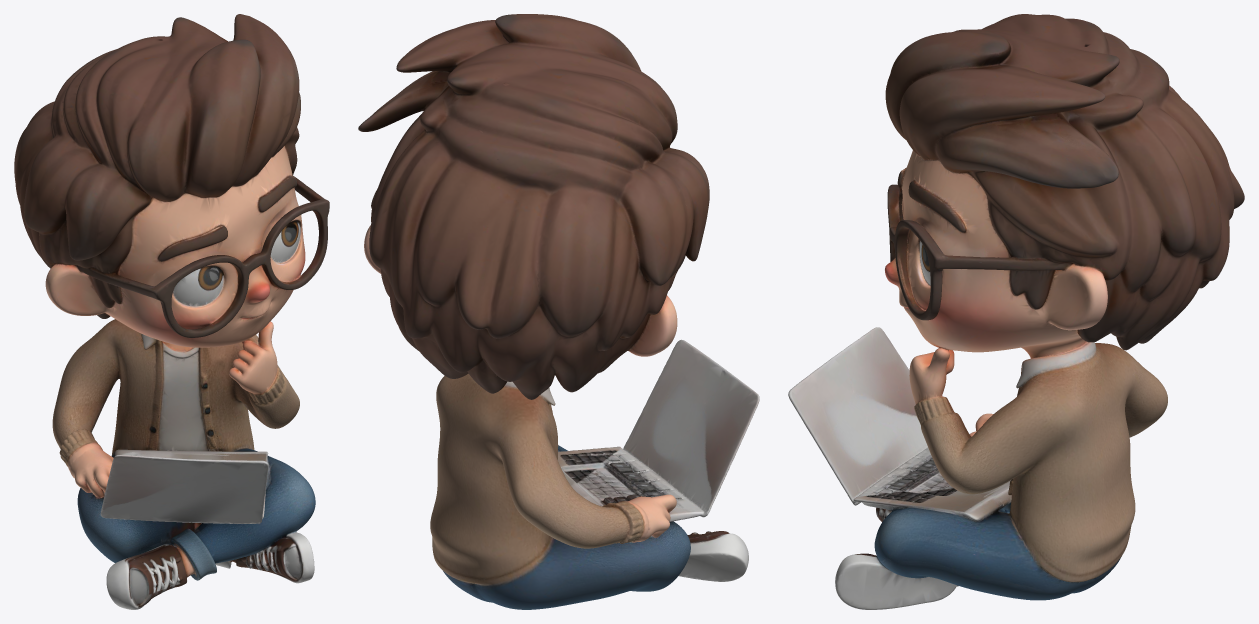
The model's file is writer.glb.
The picture shows the model from 3 angles, left to right: view 1: azimuth 30°, elevation 25°; view 2: azimuth 150°, elevation 25°; view 3: azimuth 270°, elevation 25°; orthographic projection. The views are drawn at different scales.
Bounding box in the file's own units: 36292 × 65534 × 48052.
1 material, 1 textured.
